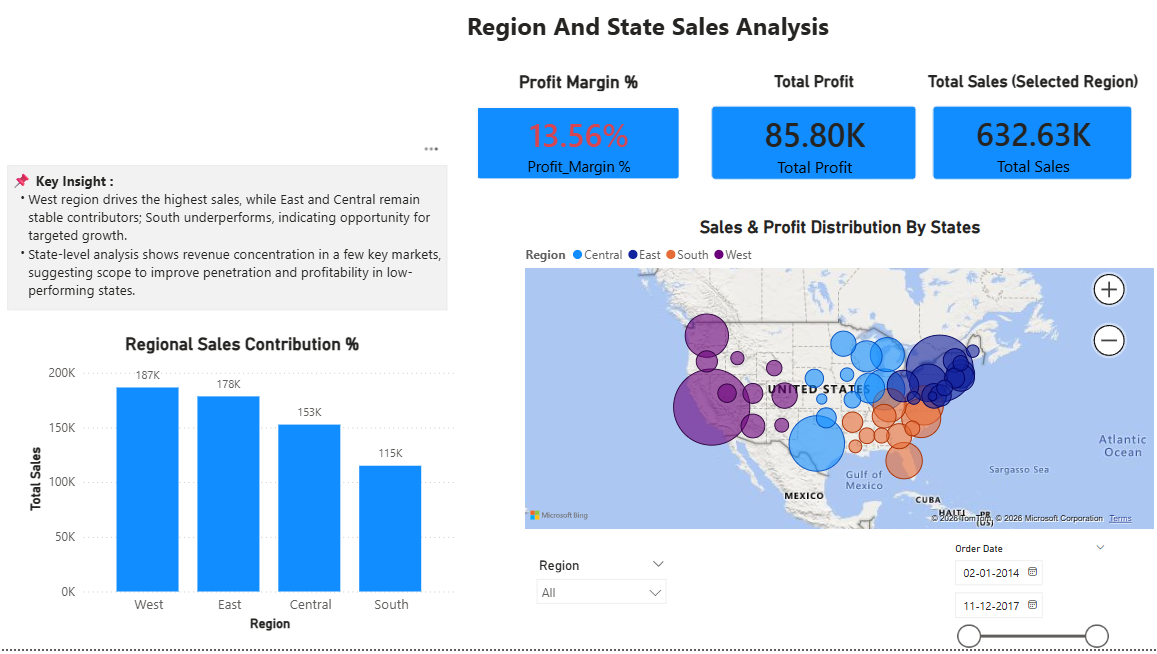

The dashboard page shown, as its layout file describes it:
{"tool":"powerbi","page":{"name":"Region & State Analysis","canvas":[1280,720],"ordinal":1},"visuals":[{"type":"clusteredColumnChart","title":"Regional Sales Contribution %","fields":{"Y":["Table1_2.Total Sales"],"Category":["Table1_2.Region"]},"box":[30.2,373.2,480.3,330.7],"z":0},{"type":"map","title":"Sales & Profit Distribution By States","fields":{"Category":["Table1_2.State"],"Series":["Table1_2.Region"],"Size":["Table1_2.Total Sales"]},"box":[576.2,243.6,700.5,347.7],"z":1000},{"type":"slicer","fields":{"Values":["Table1_2.Region"]},"box":[582.9,613.1,162.9,73.9],"z":2000},{"type":"slicer","fields":{"Values":["Table1_2.Order Date"]},"box":[1039.8,596.3,189.8,124.3],"z":3000},{"type":"cardVisual","title":"Total Profit","fields":{"Data":["Table1_2.Total Profit"]},"box":[768.4,85.1,259.3,135.8],"z":4000},{"type":"textbox","box":[307.4,11,816.5,74.1],"z":5000},{"type":"cardVisual","title":"Total Sales (Selected Region)","fields":{"Data":["Table1_2.Total Sales"]},"box":[1011.3,85.1,253.9,135.8],"z":6000},{"type":"textbox","box":[12.3,188,483,159.2],"z":7000},{"type":"cardVisual","title":"Profit Margin %","fields":{"Data":["Table1_2.Profit_Margin %"]},"box":[510.5,85.1,258,135.8],"z":8000}]}

Visuals, with their boxes in screenshot pixels (x1, y1, x2, y2), scaled from the page's 1280x720 canvas onto the 1157x654 screenshot:
"Regional Sales Contribution %" clusteredColumnChart: [x1=27, y1=339, x2=461, y2=639]
"Sales & Profit Distribution By States" map: [x1=521, y1=221, x2=1154, y2=537]
slicer - Table1_2.Region: [x1=527, y1=557, x2=674, y2=624]
slicer - Table1_2.Order Date: [x1=940, y1=542, x2=1111, y2=653]
"Total Profit" cardVisual: [x1=695, y1=77, x2=929, y2=201]
textbox: [x1=278, y1=10, x2=1016, y2=77]
"Total Sales (Selected Region)" cardVisual: [x1=914, y1=77, x2=1144, y2=201]
textbox: [x1=11, y1=171, x2=448, y2=315]
"Profit Margin %" cardVisual: [x1=461, y1=77, x2=695, y2=201]
